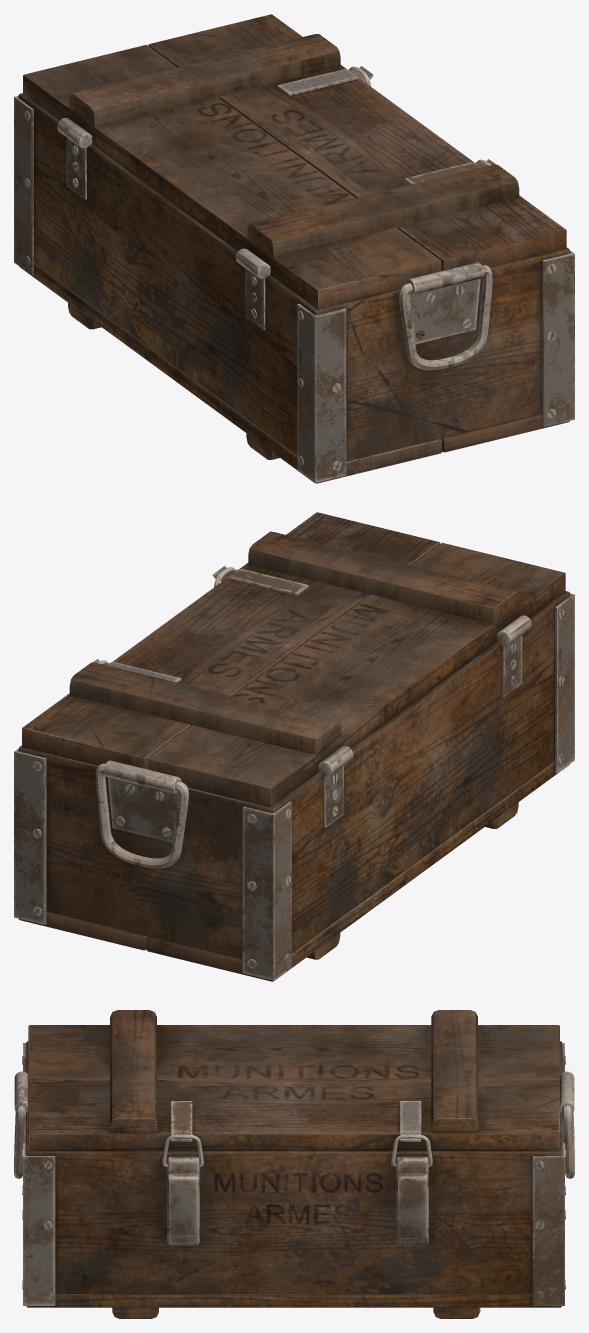
File: Ammocrate.glb
3 views of the same model, one above another, from view 1: azimuth 30°, elevation 25°; view 2: azimuth 150°, elevation 25°; view 3: azimuth 270°, elevation 25° (orthographic). The views are drawn at different scales.
Parts seen in each view (by area): view 1: Cube.021_0; view 2: Cube.021_0; view 3: Cube.021_0.
Boxes of the visible parts, x1,y1,x2,y2 form: Cube.021_0: (14, 14, 574, 483); Cube.021_0: (14, 512, 574, 981); Cube.021_0: (14, 1010, 574, 1318).
Bounding box in the file's own units: 3.73 × 2.82 × 7.11.
Materials: 1 (1 with a texture image).
